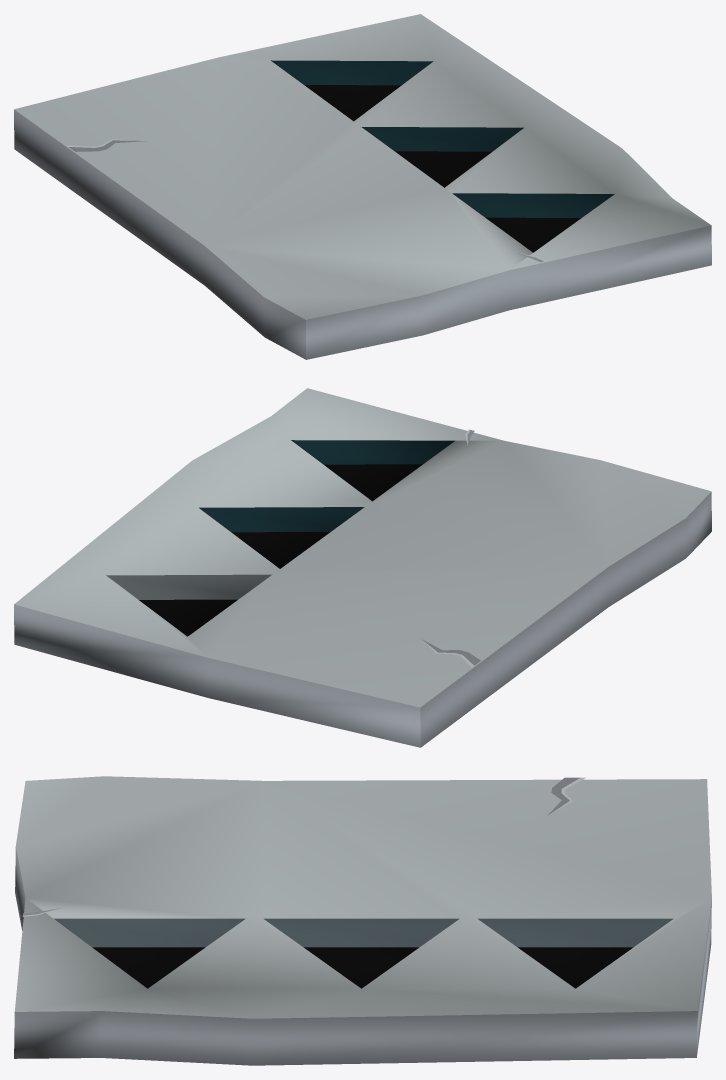
Rendered from PuzzleOneBase.glb.
3 views of the same model, one above another, from view 1: azimuth 30°, elevation 25°; view 2: azimuth 150°, elevation 25°; view 3: azimuth 270°, elevation 25° (orthographic). The views are drawn at different scales.
Visible parts, largest first — view 1: PuzzleOneBase; view 2: PuzzleOneBase; view 3: PuzzleOneBase.
Part boxes in pixels (<box>): PuzzleOneBase: <box>14,14,711,359</box>; PuzzleOneBase: <box>14,388,711,747</box>; PuzzleOneBase: <box>14,776,711,1065</box>.
Bounding box in the file's own units: 1.7 × 0.1595 × 2.07.
